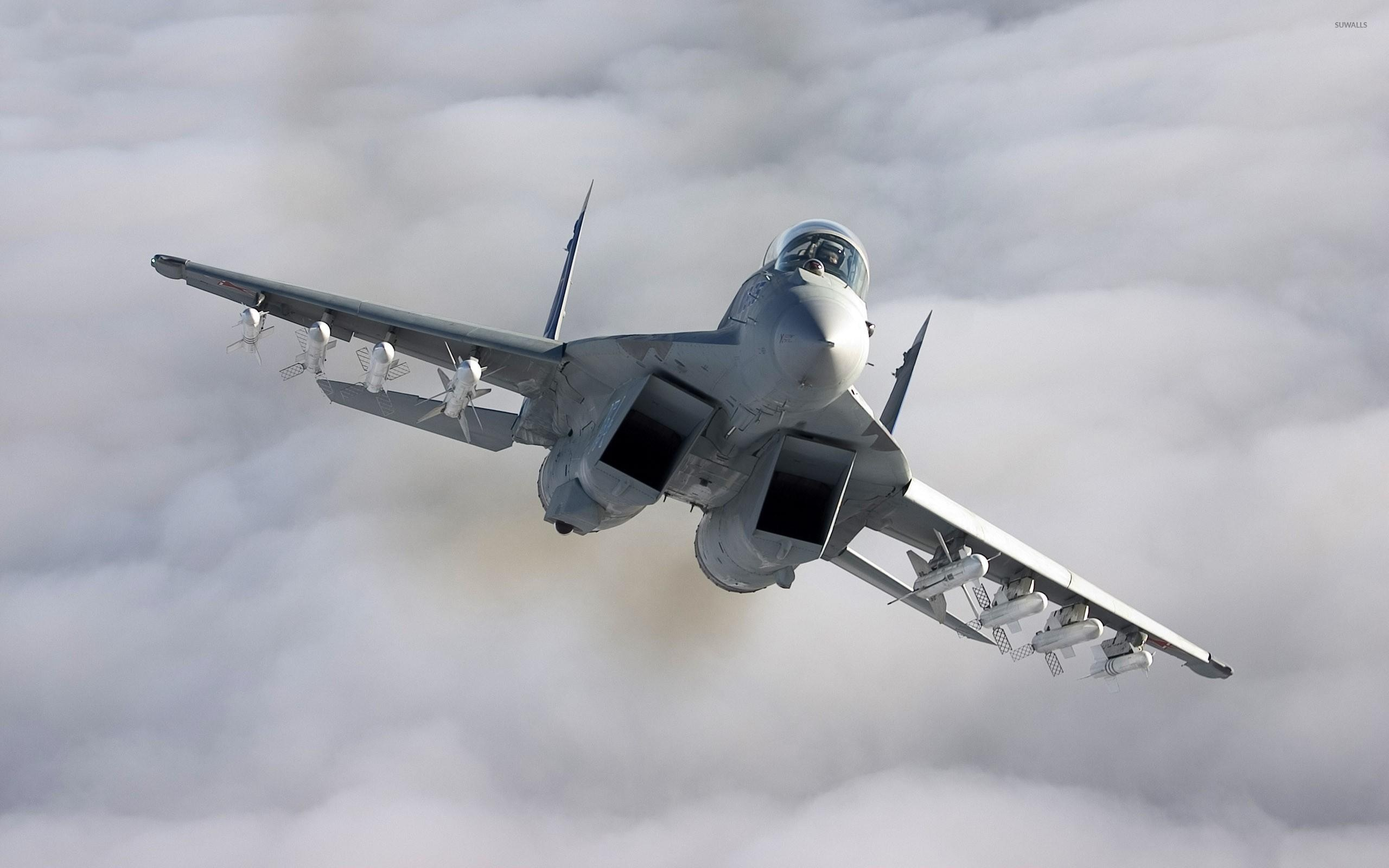aircraft: (138, 178, 1269, 667)
